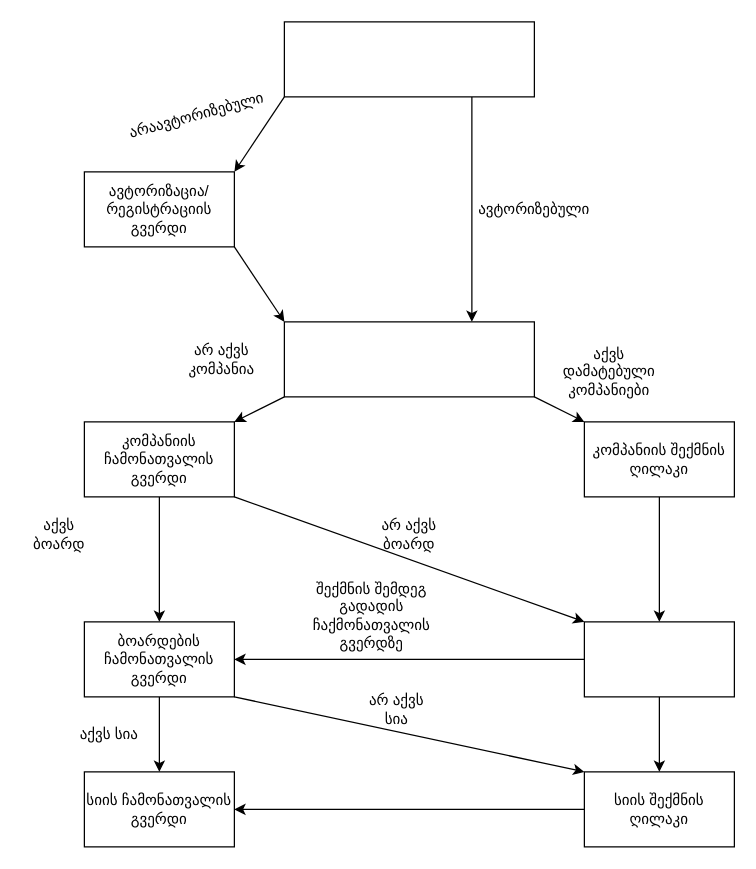
The diagram is 756 pixels wide and 869 high, and some of its shapes have lost their labels. Here are the shapes that lost their labels. From the top down, the centre of each, then its label:
the point at 408,59: მომხმარებელი
the point at 408,359: მთავარი გვერდი
the point at 658,659: ბოარდის შექმნის ღილაკი
